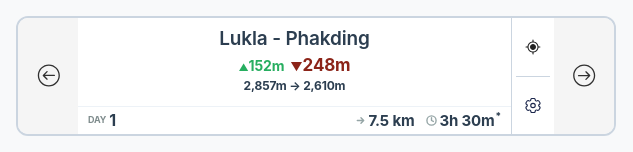
Test case: Dashboard Toolbar Behavior › should close toolbar when clicking close button
This screenshot has width=633, height=152.
Note: Open toolbar
Click the picture with alt text "Tools": point(533, 105) top-left (524, 96), bottom-right (542, 114)
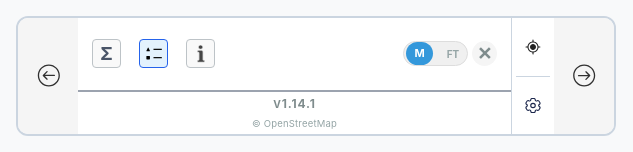
Check: the element with class "branding-strip" is shown, box top-left (78, 90), bottom-right (511, 134)
Note: Close toolbar
Click the button "✕": point(484, 54) top-left (472, 41), bottom-right (497, 66)
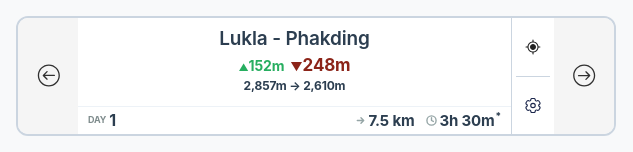
Check: the element with class "branding-strip" is gone
